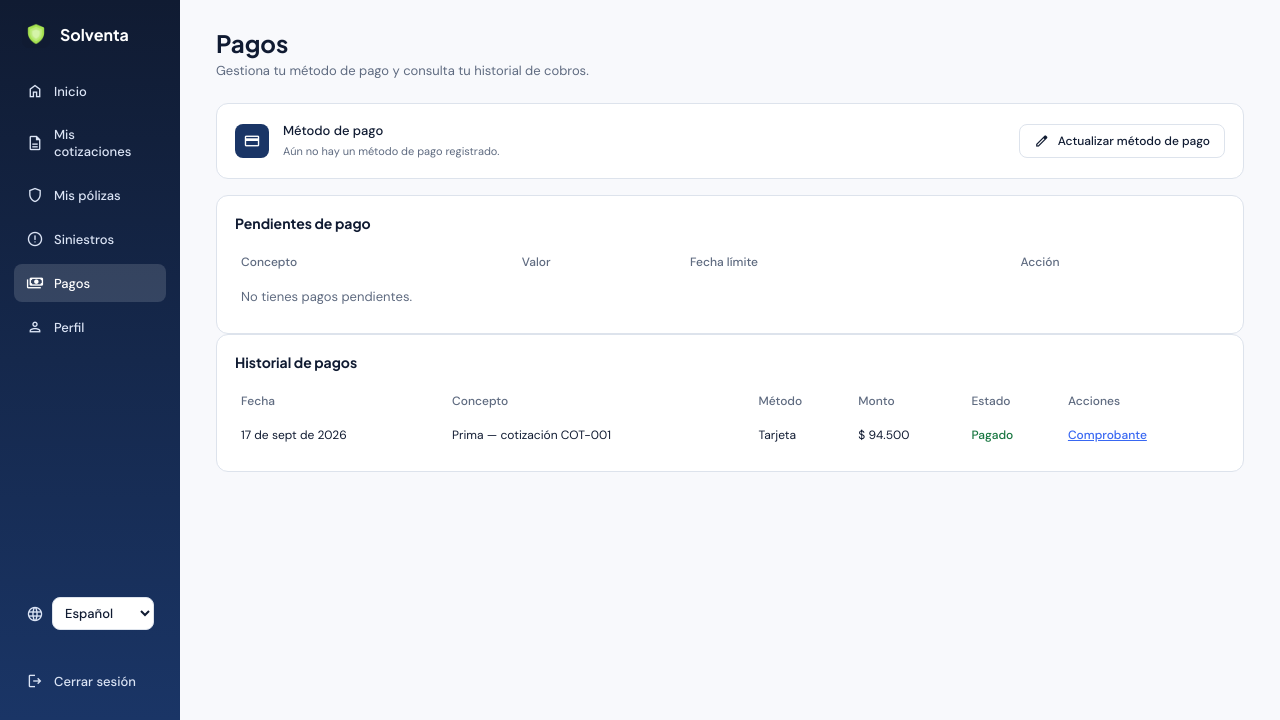
Scenario: avisa si no puede consultar el comprobante
The image size is (1280, 720).
Click the button "Comprobante".
click(1107, 435)  # box [1068,427,1147,443]
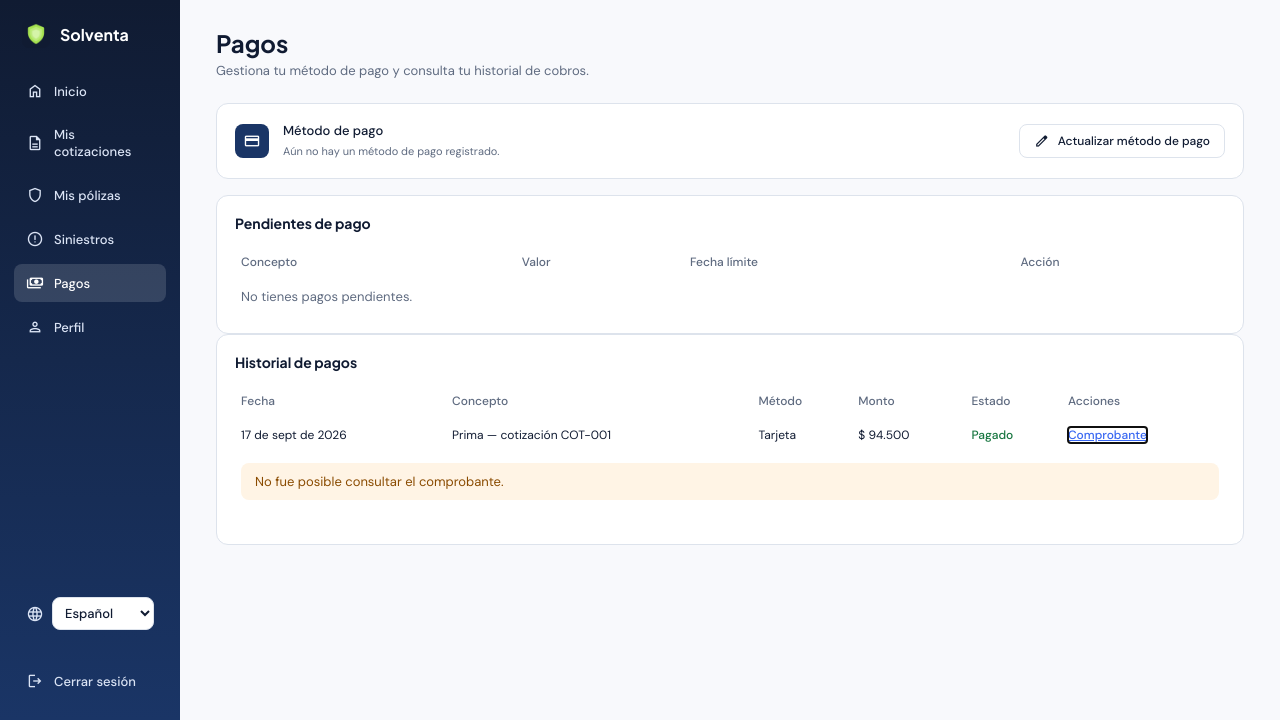
Check: the message reads "No fue posible consultar el comprobante.", box [255,473,504,490]
